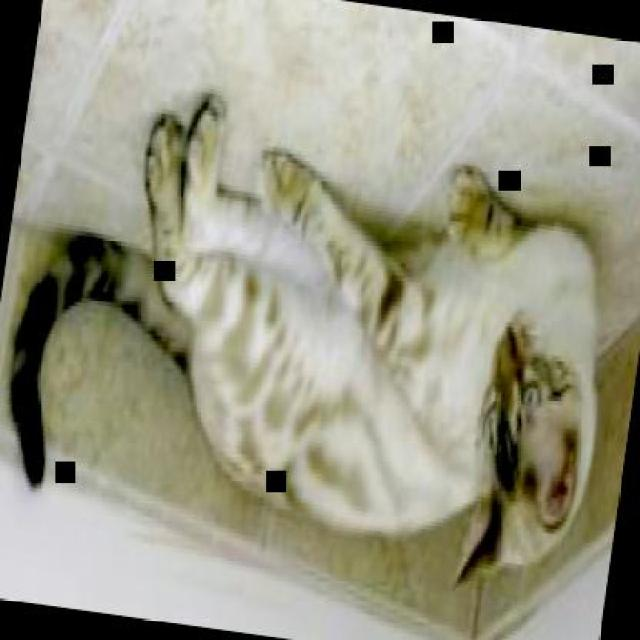cat: (0, 70, 635, 609)
